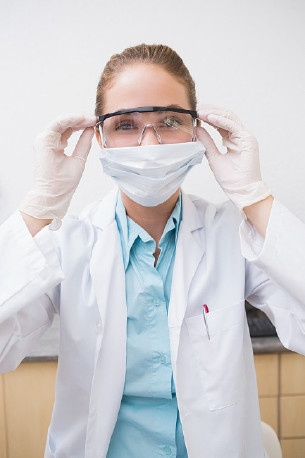Mask: (96, 99, 203, 207)
